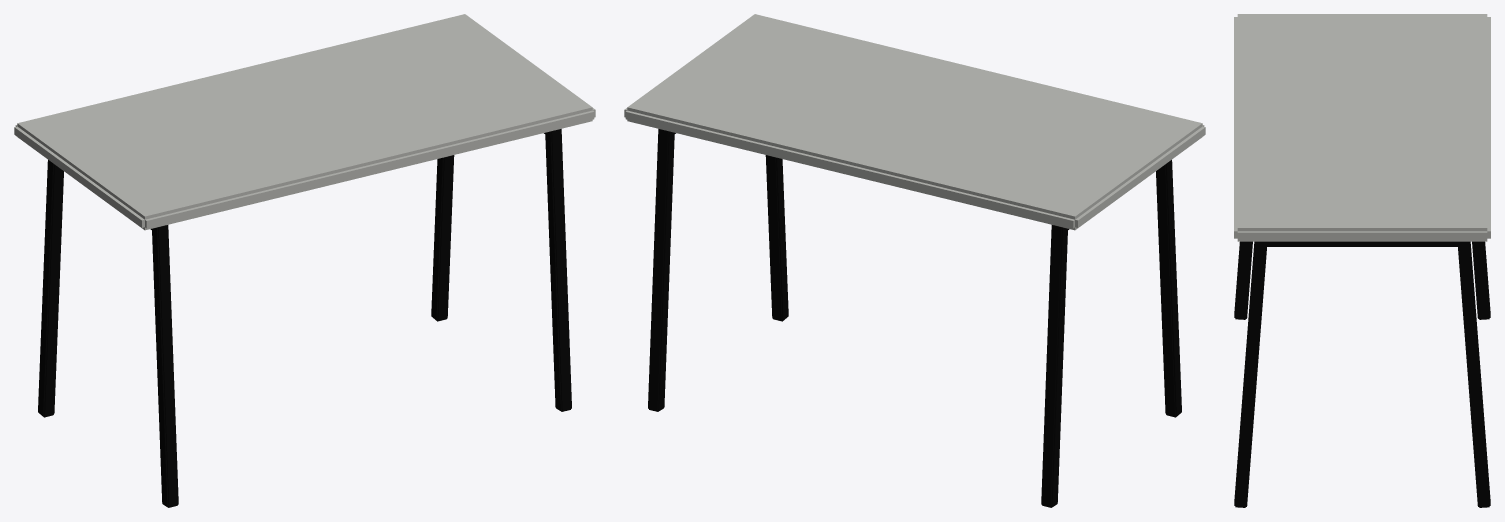
The model's file is obj_table.glb.
The picture shows the model from 3 angles, left to right: view 1: azimuth 30°, elevation 25°; view 2: azimuth 150°, elevation 25°; view 3: azimuth 270°, elevation 25°; orthographic projection. The views are drawn at different scales.
Parts seen in each view (by area): view 1: top, table_body; view 2: top, table_body; view 3: top, table_body.
Boxes of the visible parts, x1,y1,x2,y2 form: top: (14,14,595,230); table_body: (38,129,571,507); top: (624,14,1205,230); table_body: (648,129,1181,507); top: (1234,14,1490,241); table_body: (1234,241,1490,507).
Bounding box in the file's own units: 1.2 × 0.75 × 0.6.
Materials: 2 (1 with a texture image).
